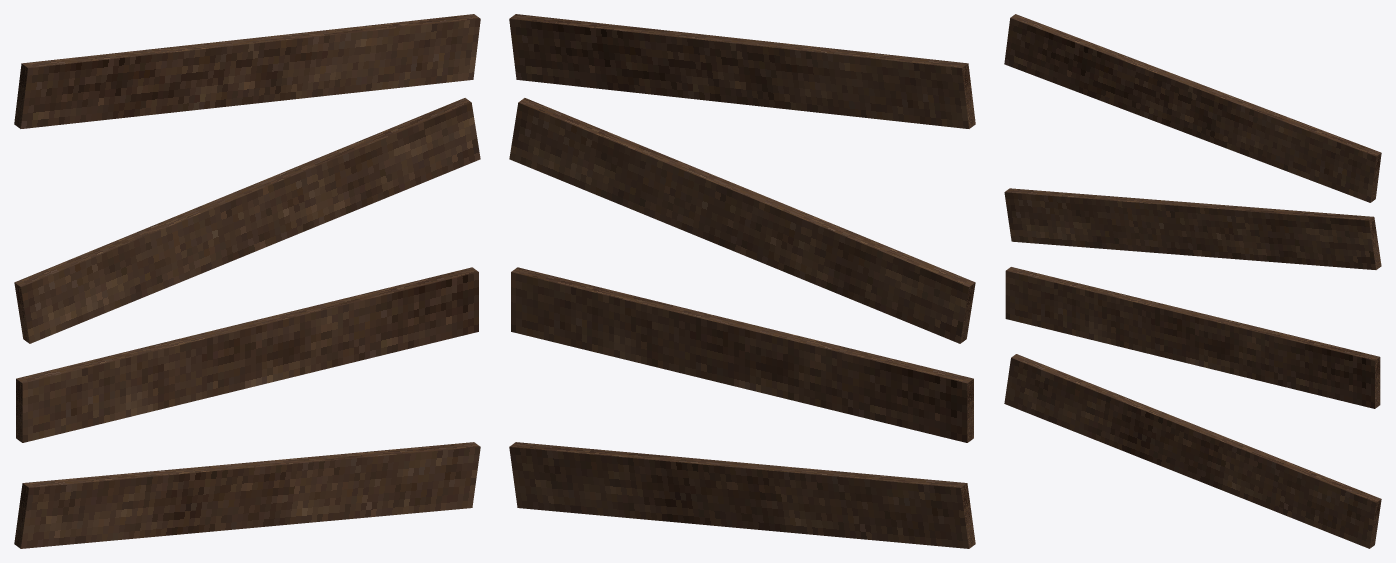
File: planks_single_window.glb
3 views of the same model, side by side, from view 1: azimuth 30°, elevation 25°; view 2: azimuth 150°, elevation 25°; view 3: azimuth 330°, elevation 25° (orthographic). The views are drawn at different scales.
Parts seen in each view (by area): view 1: planks_single_window2; view 2: planks_single_window2; view 3: planks_single_window2.
Part boxes in pixels (x1,y1,x2,y2): planks_single_window2: [14, 14, 480, 548]; planks_single_window2: [509, 14, 975, 548]; planks_single_window2: [1004, 14, 1381, 548].
Bounding box in the file's own units: 1.61 × 1.84 × 0.04.
Materials: 1 (1 with a texture image).
